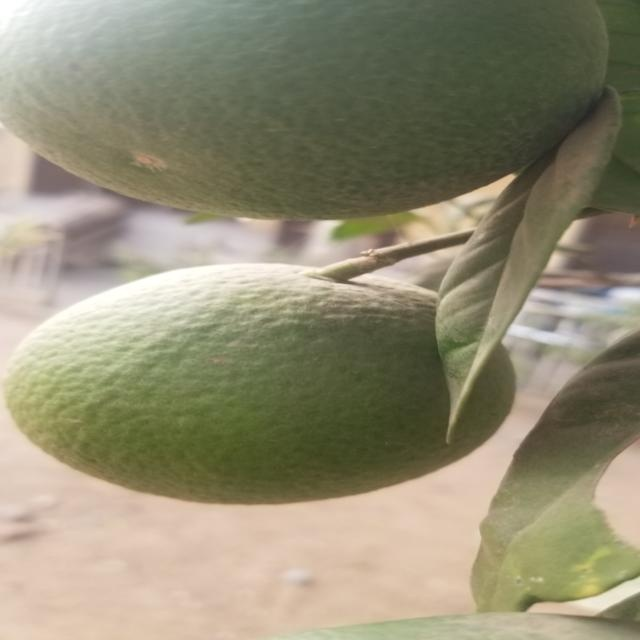agrume: (0, 0, 633, 211), (3, 265, 506, 502)
